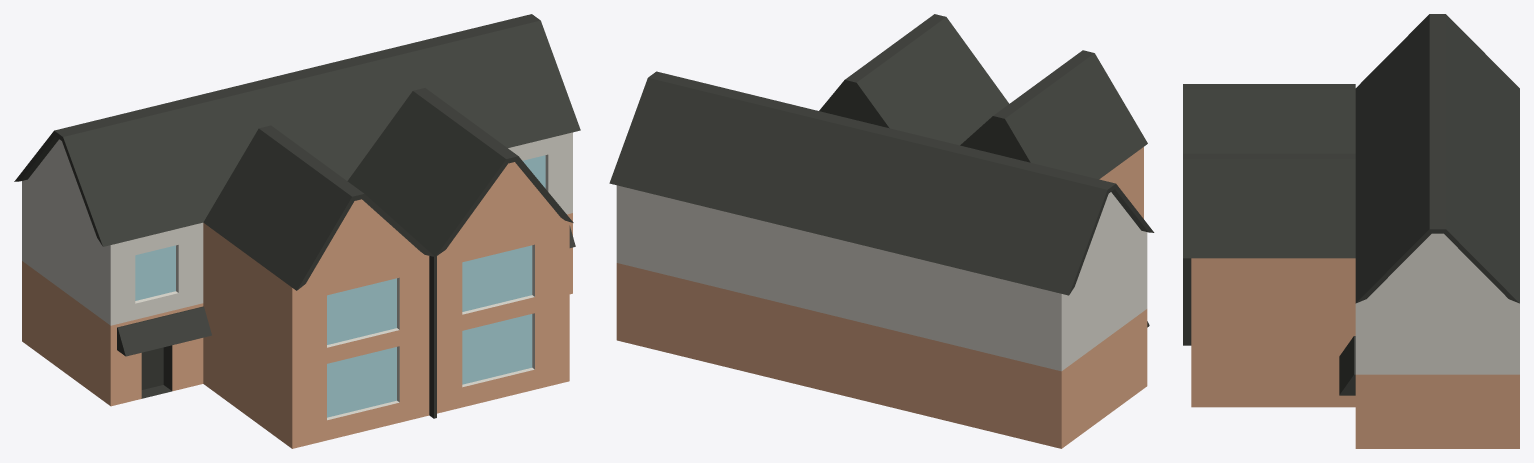
Rendered from House.fbx.
The picture shows the model from 3 angles, left to right: view 1: azimuth 30°, elevation 25°; view 2: azimuth 150°, elevation 25°; view 3: azimuth 270°, elevation 25°; orthographic projection. The views are drawn at different scales.
Parts seen in each view (by area): view 1: House; view 2: House; view 3: House.
Part boxes in pixels (x1,y1,x2,y2): House: (14, 14, 580, 448); House: (609, 14, 1154, 448); House: (1183, 14, 1519, 448).
Size of the model in its own units: 310 by 150 by 205.
